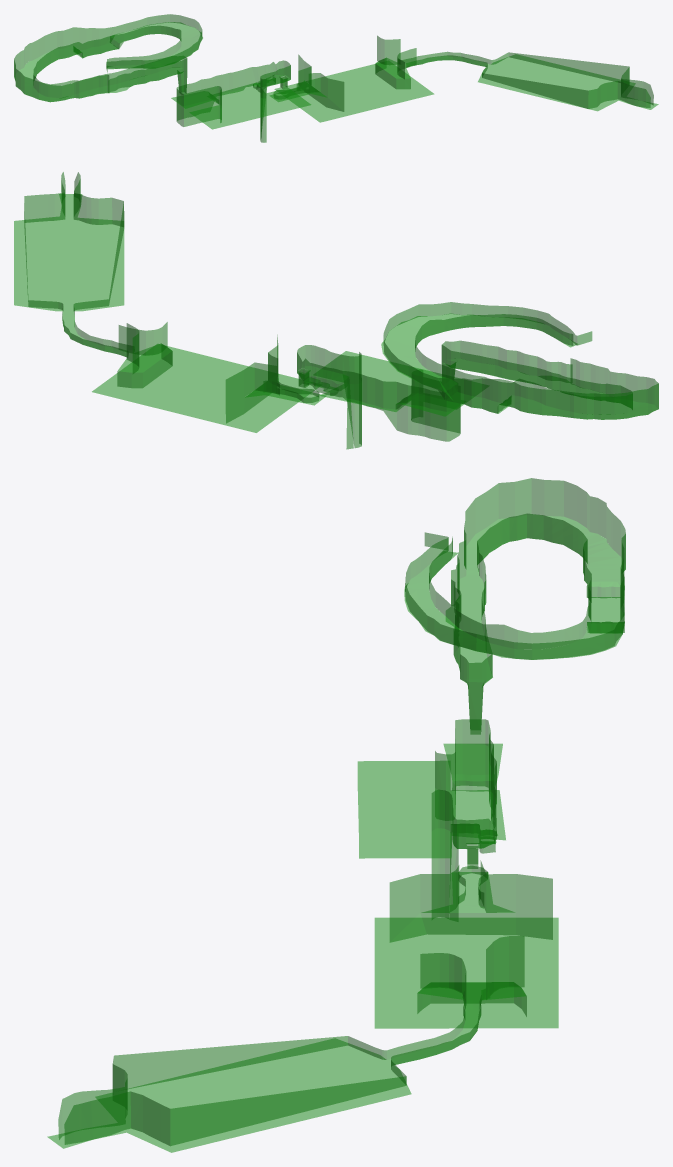
The model's file is _cam.obj.
The picture shows the model from 3 angles, top to bottom: view 1: azimuth 30°, elevation 25°; view 2: azimuth 150°, elevation 25°; view 3: azimuth 270°, elevation 25°; orthographic projection. The views are drawn at different scales.
Size of the model in its own units: 900 by 191 by 425.
